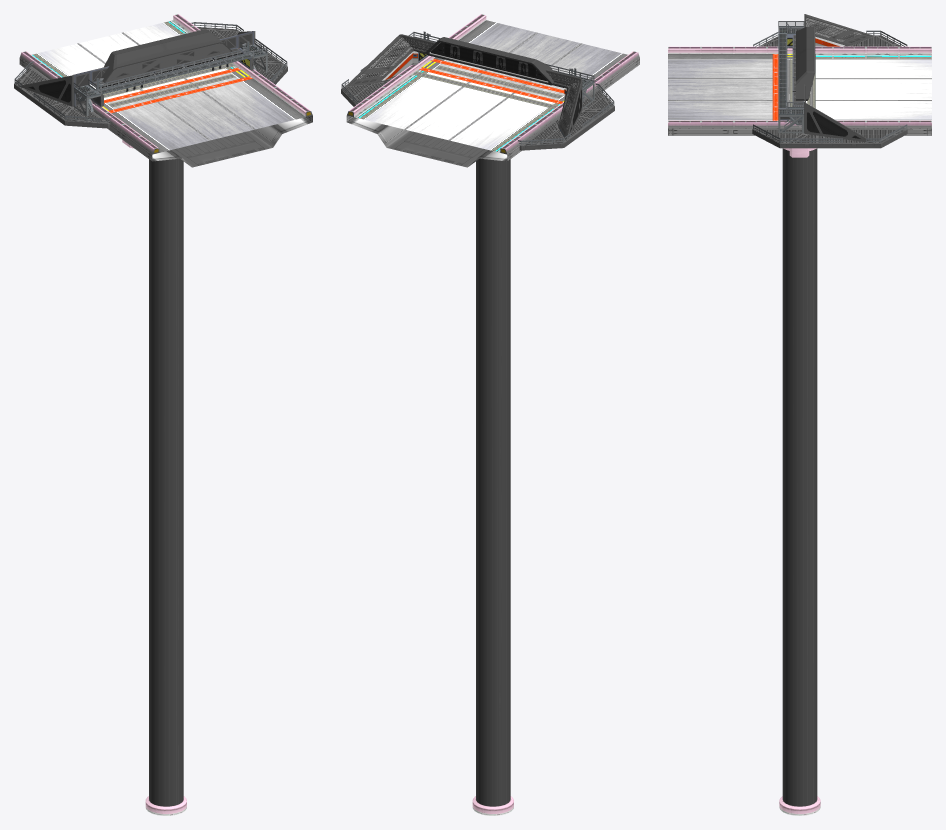
The model's file is T1 - Magnetic - UP.fbx.
3 views of the same model, side by side, from view 1: azimuth 30°, elevation 25°; view 2: azimuth 150°, elevation 25°; view 3: azimuth 270°, elevation 25° (orthographic).
Parts seen in each view (by area): view 1: support_pylon, gat_sta_magnetic_bridge, straight_road2, standard_bridge, wall_drift11, magnetic_road_lines, magnetic_road_lines_1; view 2: support_pylon, straight_road2, gat_sta_magnetic_bridge, standard_bridge, wall_drift11, magnetic_road_lines_1, magnetic_road_lines; view 3: support_pylon, straight_road2, gat_sta_magnetic_bridge, wall_drift11, standard_bridge, magnetic_road_lines, magnetic_road_lines_1.
Part boxes in pixels (x1=…): support_pylon: x1=149, y1=158, x2=183, y2=806; gat_sta_magnetic_bridge: x1=14, y1=22, x2=287, y2=128; straight_road2: x1=31, y1=20, x2=305, y2=152; standard_bridge: x1=19, y1=58, x2=312, y2=167; wall_drift11: x1=20, y1=14, x2=312, y2=154; magnetic_road_lines: x1=108, y1=74, x2=255, y2=140; magnetic_road_lines_1: x1=77, y1=32, x2=224, y2=97; support_pylon: x1=476, y1=158, x2=510, y2=806; straight_road2: x1=354, y1=20, x2=627, y2=152; gat_sta_magnetic_bridge: x1=341, y1=31, x2=614, y2=150; standard_bridge: x1=346, y1=58, x2=639, y2=167; wall_drift11: x1=347, y1=14, x2=639, y2=154; magnetic_road_lines_1: x1=404, y1=74, x2=550, y2=140; magnetic_road_lines: x1=435, y1=32, x2=582, y2=98; support_pylon: x1=782, y1=148, x2=817, y2=806; straight_road2: x1=668, y1=54, x2=931, y2=120; gat_sta_magnetic_bridge: x1=752, y1=14, x2=907, y2=148; wall_drift11: x1=668, y1=46, x2=931, y2=128; standard_bridge: x1=668, y1=128, x2=931, y2=135; magnetic_road_lines: x1=668, y1=59, x2=792, y2=106; magnetic_road_lines_1: x1=807, y1=59, x2=931, y2=108.
Bounding box in the file's own units: 6216 × 20286 × 6400.
